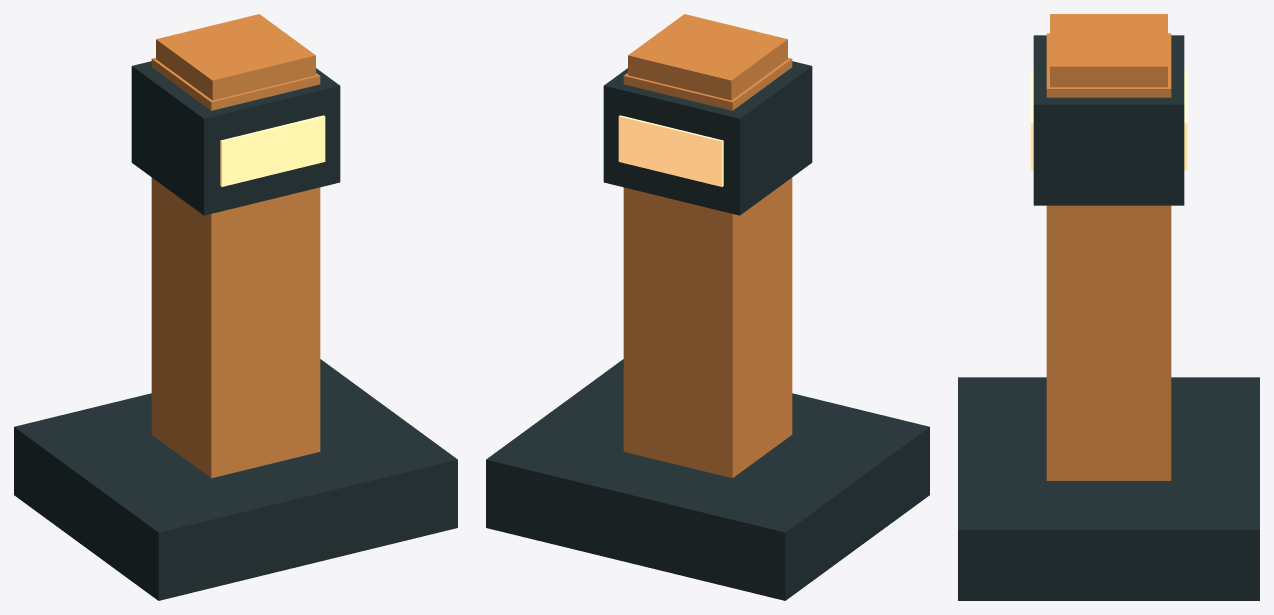
The model's file is platform-marker.glb.
3 renders of one model, left to right at view 1: azimuth 30°, elevation 25°; view 2: azimuth 150°, elevation 25°; view 3: azimuth 270°, elevation 25°, orthographic. The views are drawn at different scales.
Bounding box in the file's own units: 0.55 × 0.815 × 0.46.
